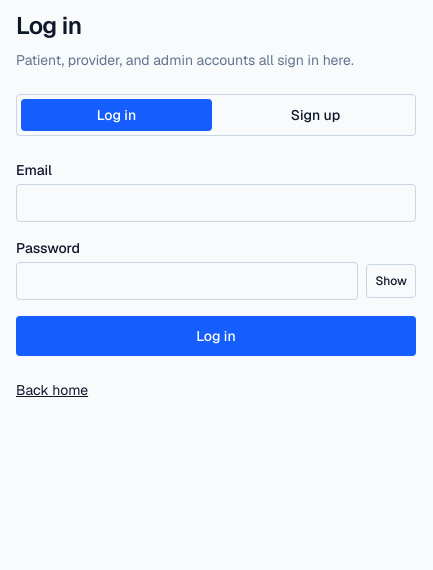
Test case: AuthPageClient › switches to the register form when the Sign up tab is chosen
What coordinates should you click on to do the following:
click the button "Sign up"
I would click on:
 (316, 115)
Its box is 220,99 -> 411,131.
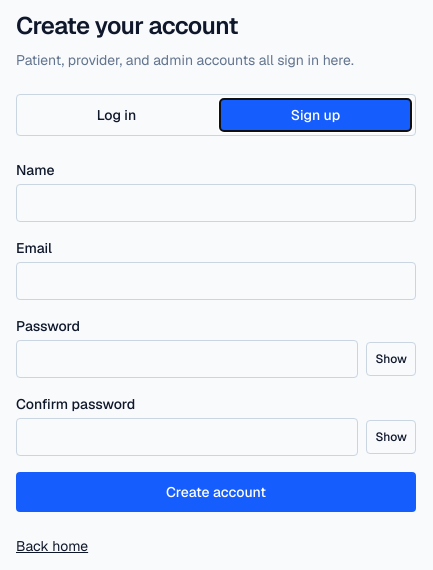
Expected: the password field labelled "Confirm password" is shown, 16,418 -> 358,456
Expected: the button "Create account" is shown, 16,472 -> 416,512
